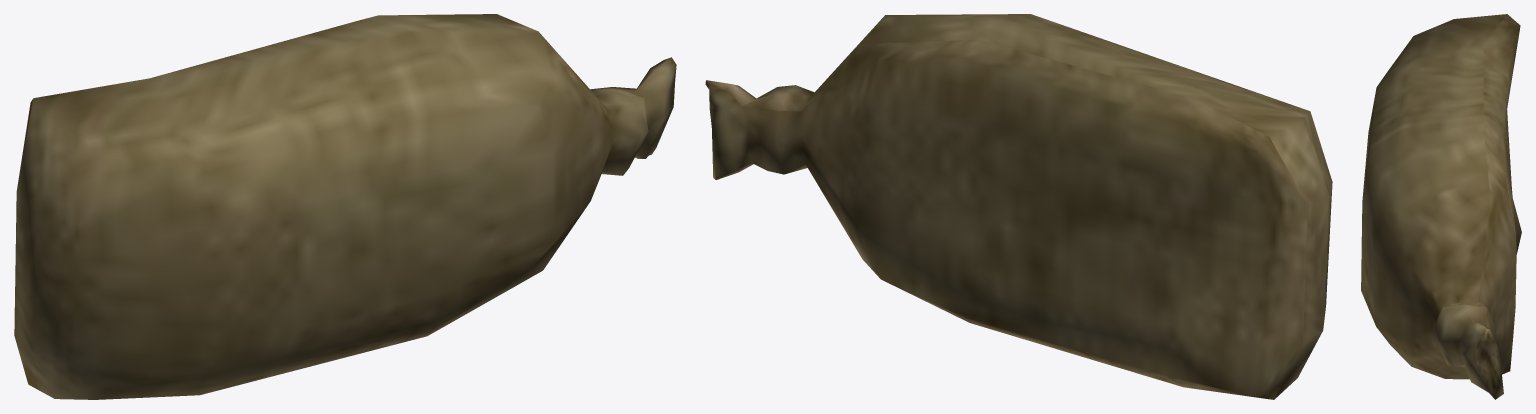
File: military_sandbag_desert_single_flat.glb
3 views of the same model, side by side, from view 1: azimuth 30°, elevation 25°; view 2: azimuth 150°, elevation 25°; view 3: azimuth 270°, elevation 25° (orthographic). The views are drawn at different scales.
Size of the model in its own units: 29.8 by 13.92 by 8.14.
1 material, 1 textured.
